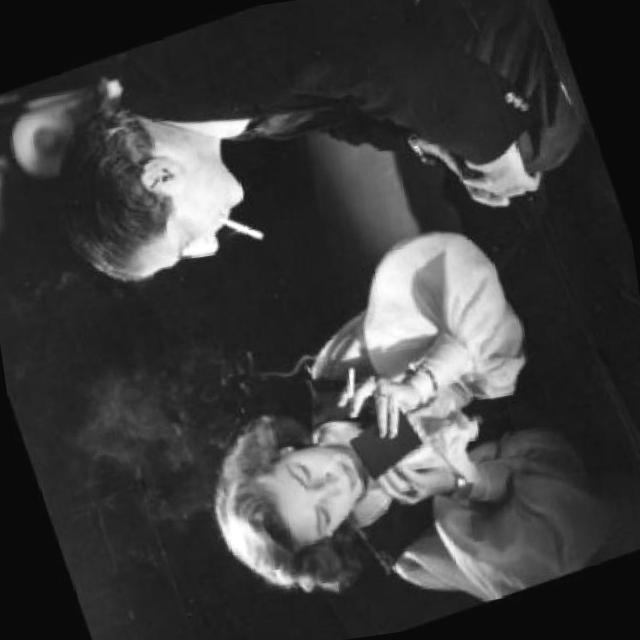smoke: (215, 199, 268, 250), (334, 360, 364, 400)
